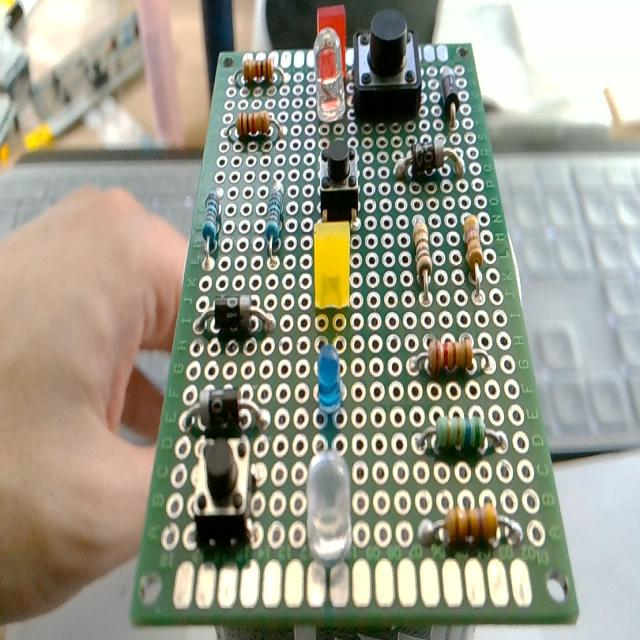diode: (384, 132, 466, 190), (186, 384, 270, 435), (194, 295, 276, 337), (432, 56, 462, 125)
led: (297, 440, 359, 579), (302, 339, 348, 448), (312, 218, 358, 316), (309, 31, 351, 129), (309, 1, 347, 74)
resistor: (411, 407, 507, 462), (416, 506, 521, 552), (411, 336, 489, 378), (412, 216, 434, 306), (462, 211, 484, 298), (202, 188, 222, 250), (265, 186, 284, 246), (237, 111, 271, 137), (243, 57, 275, 82)
switch: (188, 437, 262, 551), (352, 7, 422, 122), (312, 136, 364, 212)
